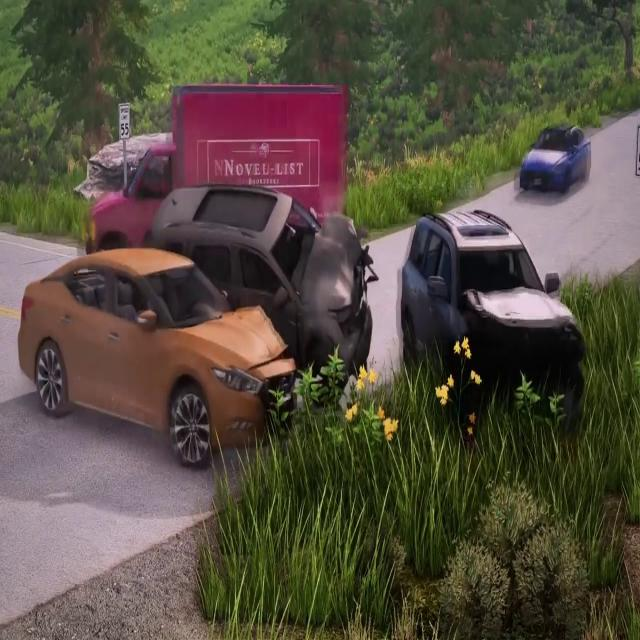accident: (15, 83, 382, 451)
